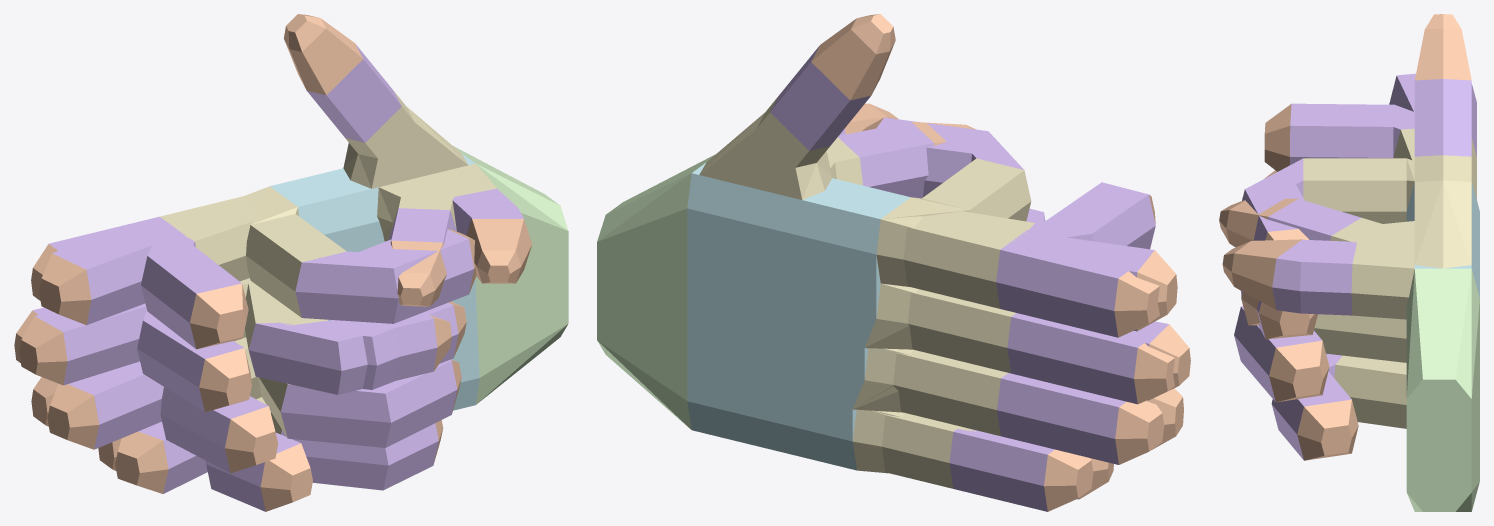
File: Hands.fbx
3 renders of one model, left to right at view 1: azimuth 30°, elevation 25°; view 2: azimuth 150°, elevation 25°; view 3: azimuth 270°, elevation 25°, orthographic. The views are drawn at different scales.
Visible parts, largest first — view 1: HOLD, GRAB, POINT, OPEN, DEFAULT; view 2: DEFAULT, GRAB, OPEN, HOLD, POINT; view 3: GRAB, DEFAULT, HOLD, POINT, OPEN.
Part boxes in pixels (x1,y1,x2,y2): HOLD: [137, 171, 568, 511]; GRAB: [246, 146, 567, 489]; POINT: [39, 154, 567, 490]; OPEN: [19, 175, 568, 493]; DEFAULT: [14, 14, 515, 470]; DEFAULT: [699, 14, 1174, 511]; GRAB: [597, 103, 1031, 470]; OPEN: [603, 123, 1190, 499]; HOLD: [831, 122, 1155, 473]; POINT: [692, 121, 1177, 440]; GRAB: [1222, 158, 1479, 511]; DEFAULT: [1409, 14, 1476, 283]; HOLD: [1229, 103, 1477, 387]; POINT: [1221, 73, 1476, 460]; OPEN: [1219, 74, 1476, 511].
Size of the model in its own units: 0.2392 by 0.1797 by 0.1009.
